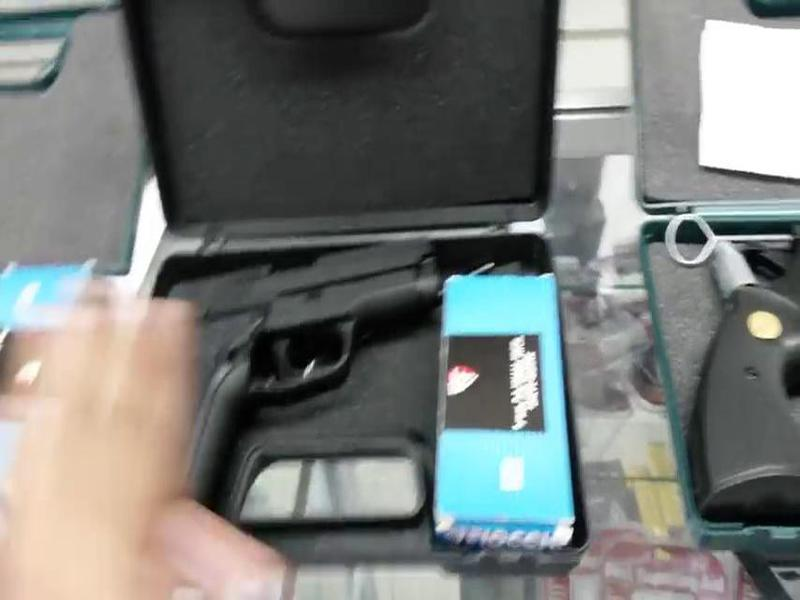Pistola: (149, 224, 456, 504)
